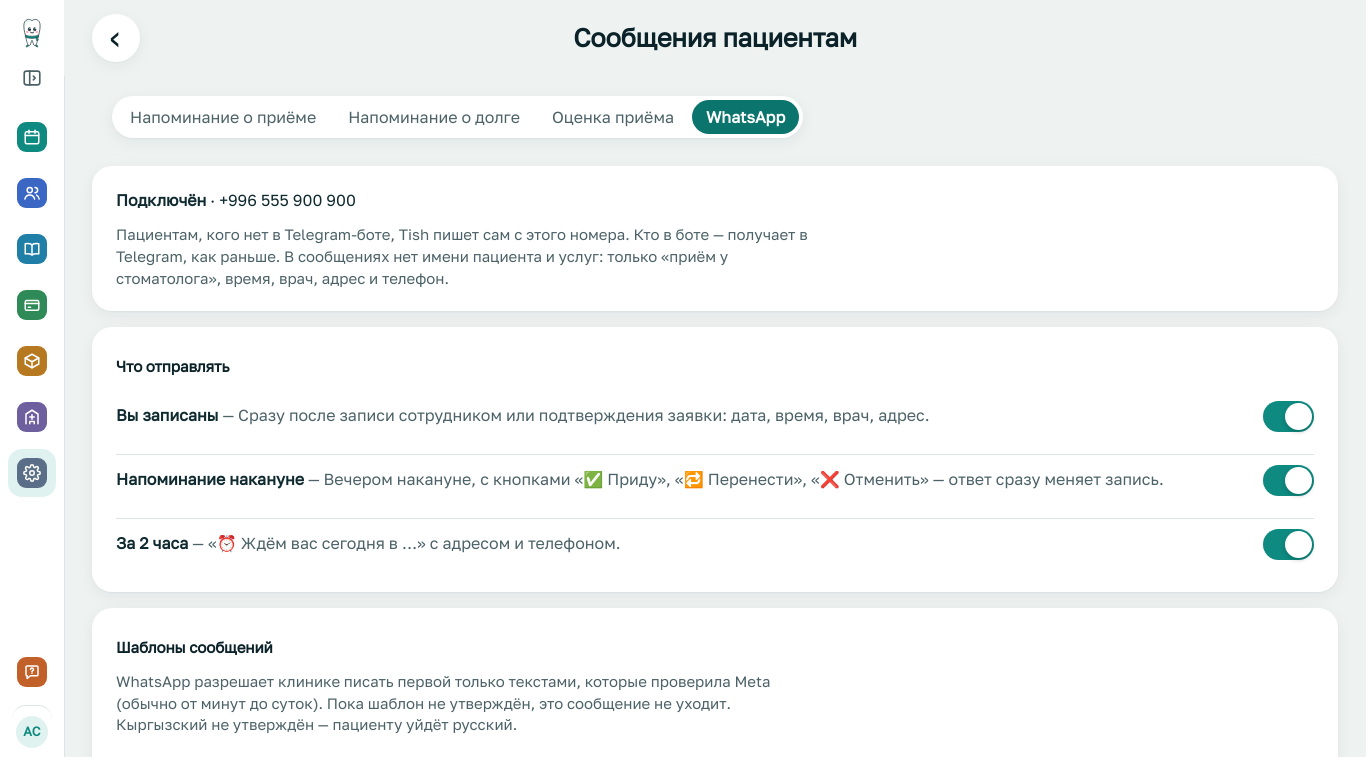
Scenario: «Настройки → Сообщения пациентам → WhatsApp» подключён: номер, галочки, статусы шаблонов, последние сообщения без имён и номеров
The image size is (1366, 757).
Later steps or results of the test are not shown.
expect the element named "Подключение" shows "+996 555 900 900": met, box top-left (219, 190), bottom-right (356, 210)
Click the checkbox labelled "За 2 часа — «⏰ Ждём вас сегодня в …» с адресом и телефоном." at (1288, 544), box top-left (1263, 528), bottom-right (1314, 560)
(page scrolled)
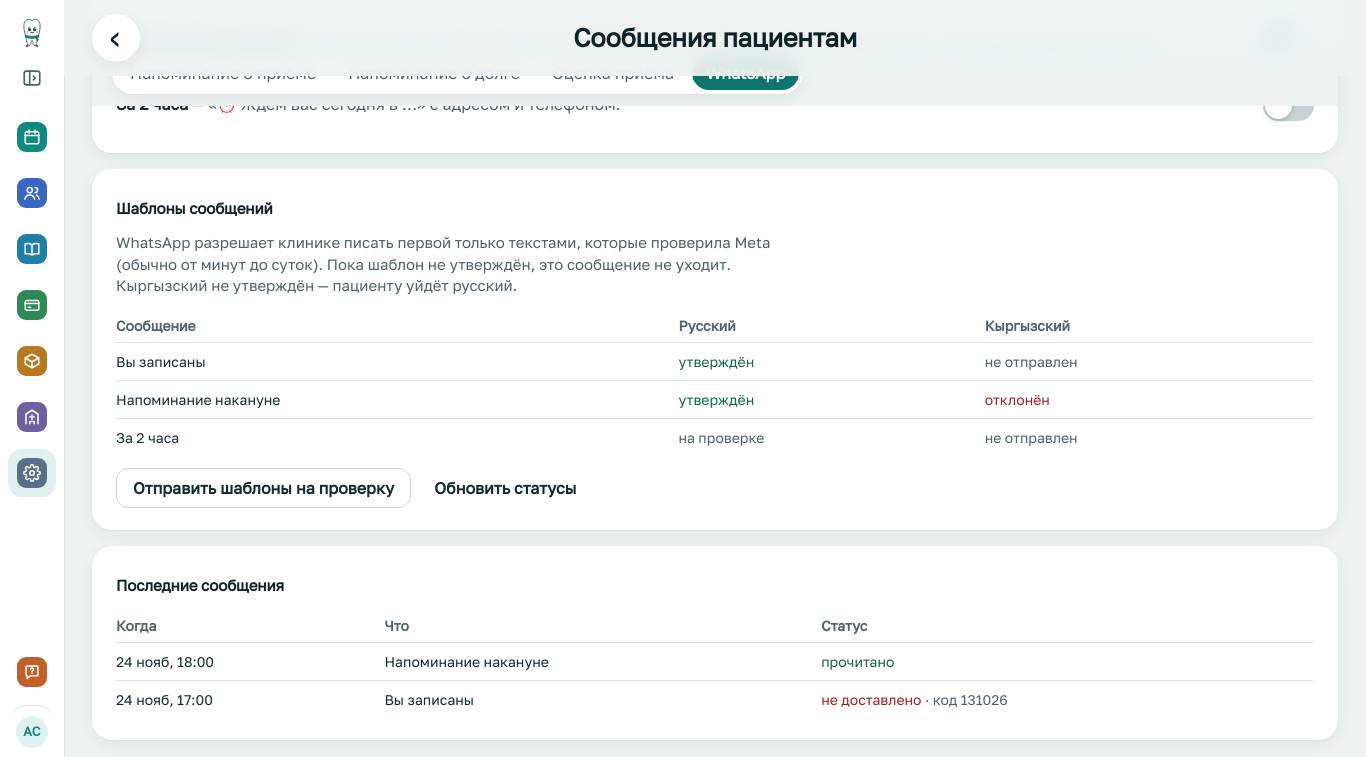
expect the row "Напоминание накануне утверждён отклонён" is shown: met, box top-left (116, 381), bottom-right (1314, 419)
expect the checkbox labelled "За 2 часа — «⏰ Ждём вас сегодня в …» с адресом и телефоном." is not checked: met, box top-left (1263, 90), bottom-right (1314, 120)
